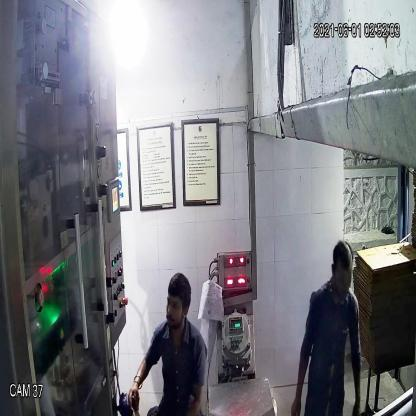no_goggles: (162, 293, 192, 318)
